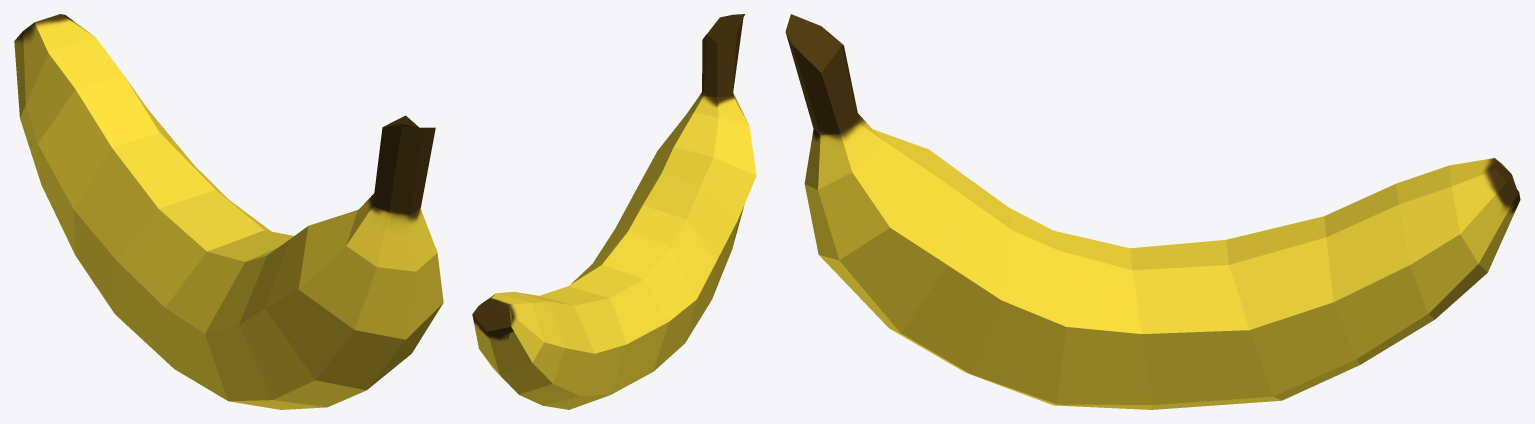
File: Banana.fbx
The picture shows the model from 3 angles, left to right: view 1: azimuth 30°, elevation 25°; view 2: azimuth 150°, elevation 25°; view 3: azimuth 270°, elevation 25°; orthographic projection. The views are drawn at different scales.
Parts seen in each view (by area): view 1: Cylinder; view 2: Cylinder; view 3: Cylinder.
Boxes of the visible parts, bbox=[...] form: Cylinder: bbox=[14, 14, 443, 409]; Cylinder: bbox=[472, 14, 756, 409]; Cylinder: bbox=[785, 14, 1520, 409].
Bounding box in the file's own units: 72.82 × 189 × 322.
